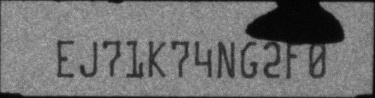0: (307, 39, 327, 78)
1: (125, 40, 144, 79)
2: (263, 41, 281, 79)
4: (195, 39, 213, 78)
7: (171, 40, 190, 78), (102, 40, 121, 77)
E: (56, 39, 74, 77)
F: (286, 39, 303, 79)
G: (240, 41, 259, 78)
J: (79, 41, 98, 77)
K: (147, 40, 167, 78)
N: (216, 39, 235, 79)
